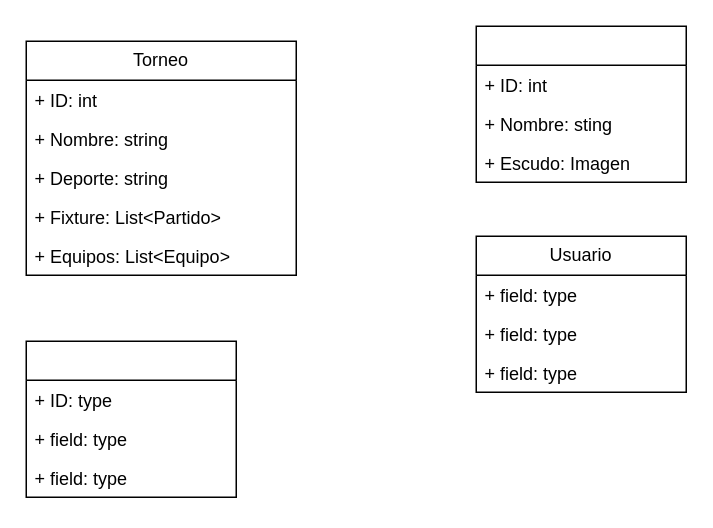
This 713x528 diagram has some shape labels left out. The shapes that lost their labels are listed below. From the top down, each one's box as (x1, y1, x2, y2) in pixels, then its label:
(475, 25, 686, 182): Equipo
(25, 340, 236, 497): Partido
